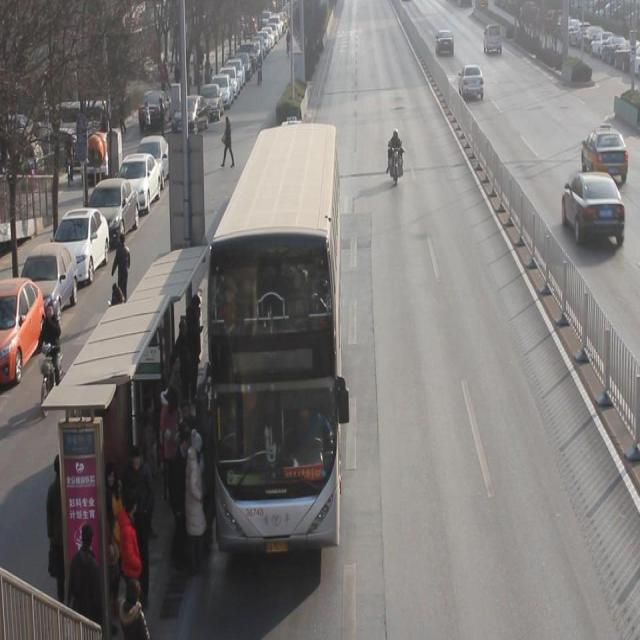car: (563, 172, 623, 250), (582, 124, 627, 184), (458, 64, 486, 103), (435, 29, 455, 58)
truck: (483, 23, 504, 58)
van: (206, 127, 341, 552)
